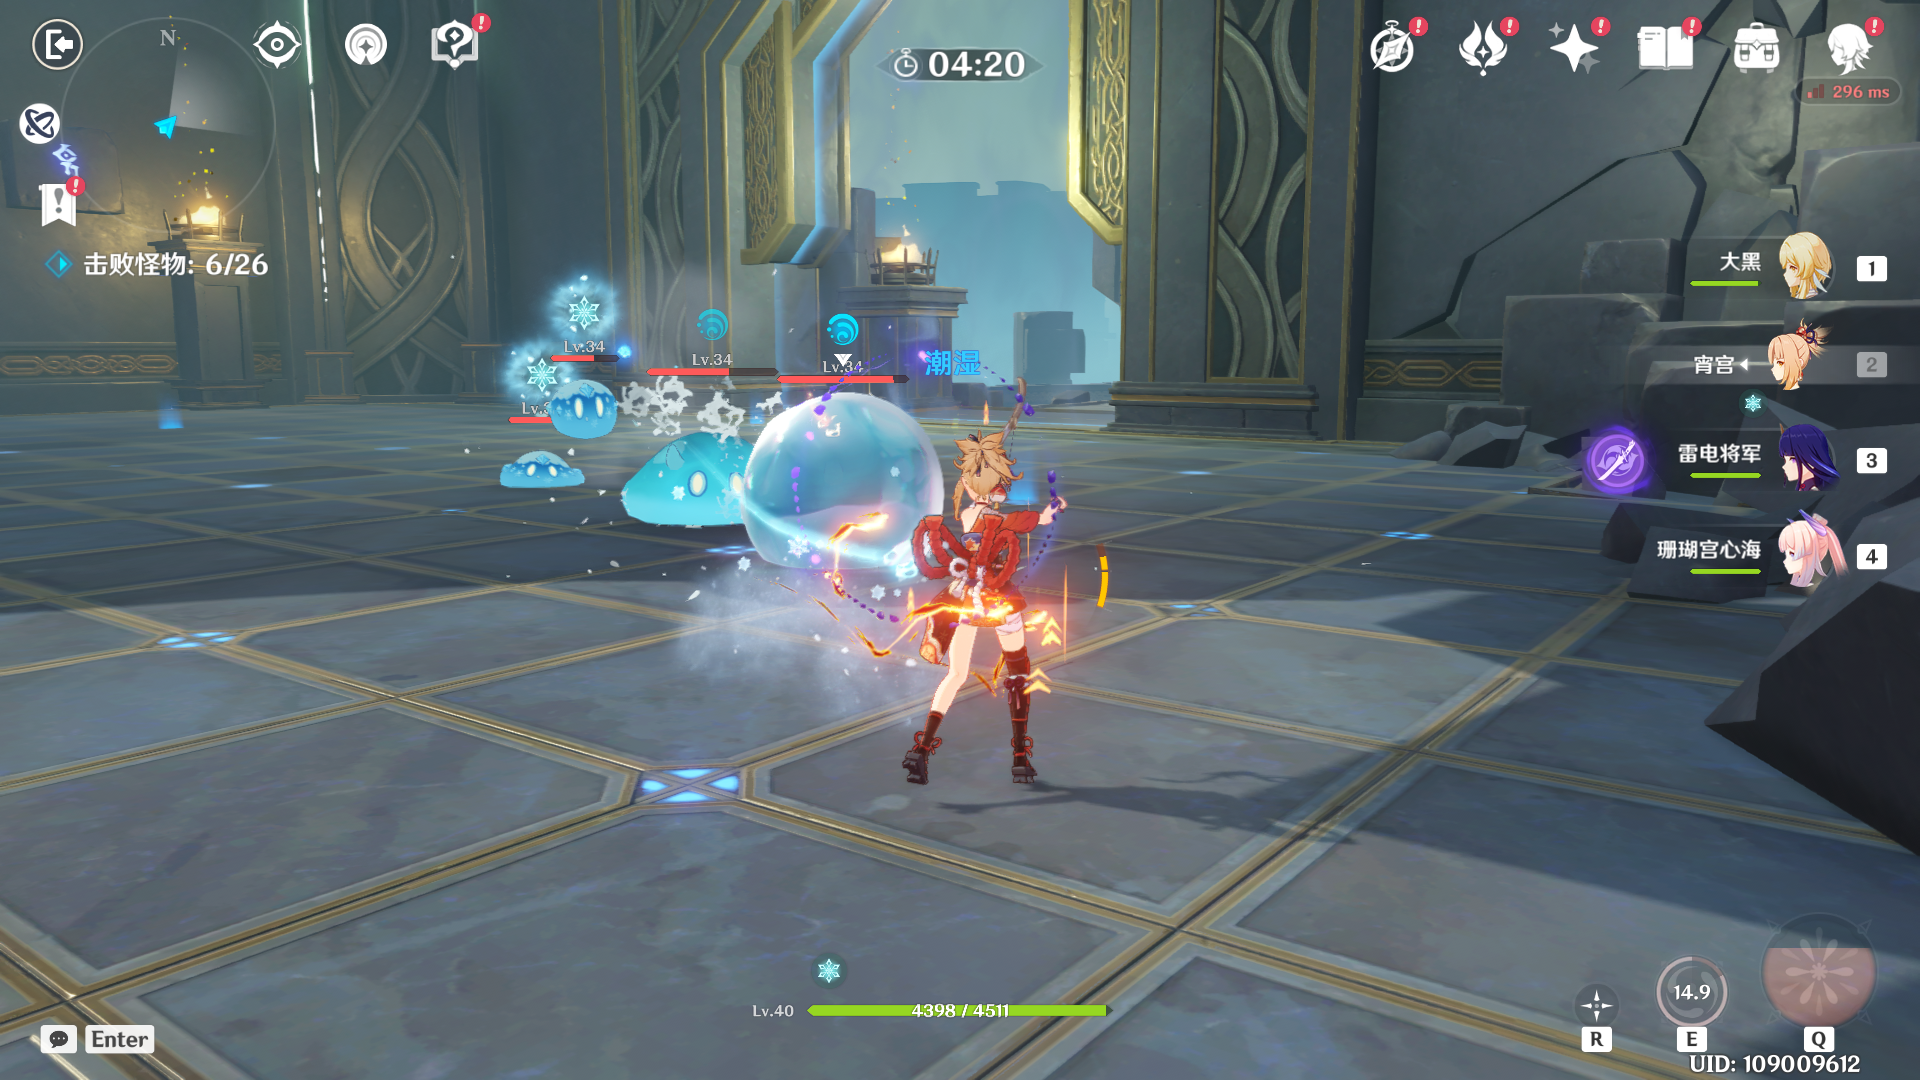character: (870, 417, 1116, 832)
slime: (729, 381, 961, 605), (609, 415, 775, 545), (483, 425, 600, 513), (541, 363, 626, 458)
